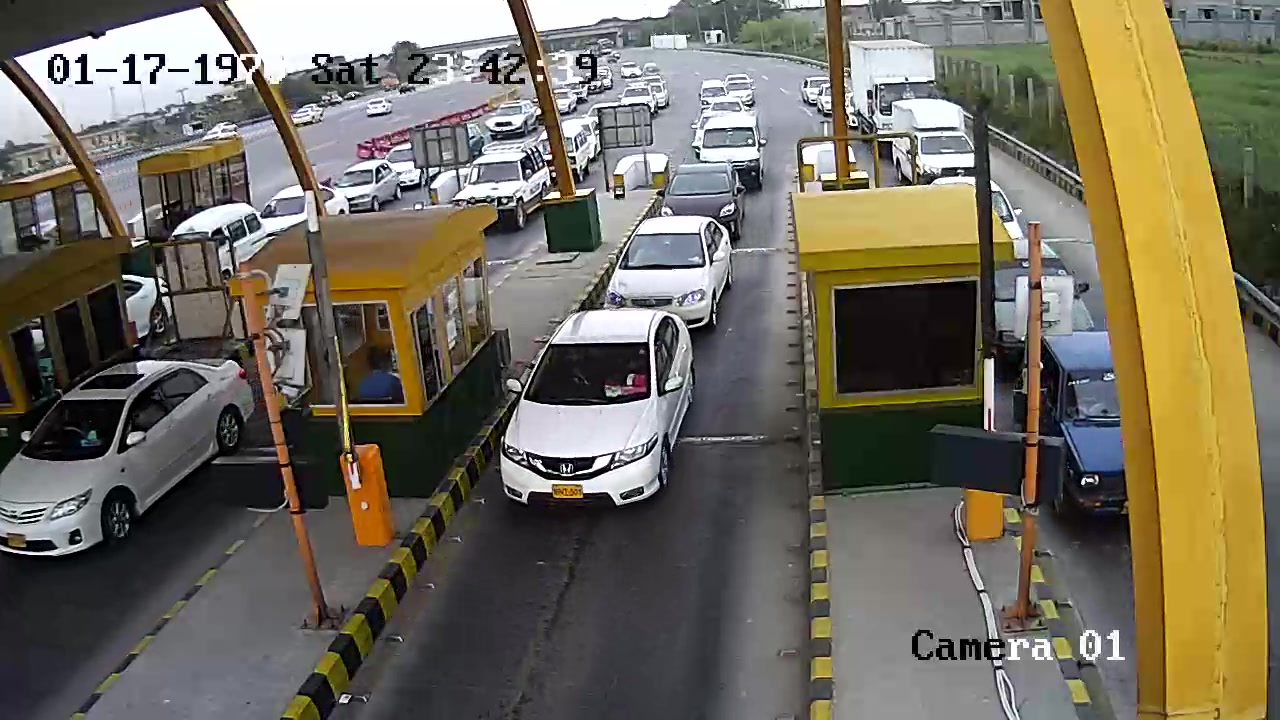F1: (494, 296, 708, 539)
